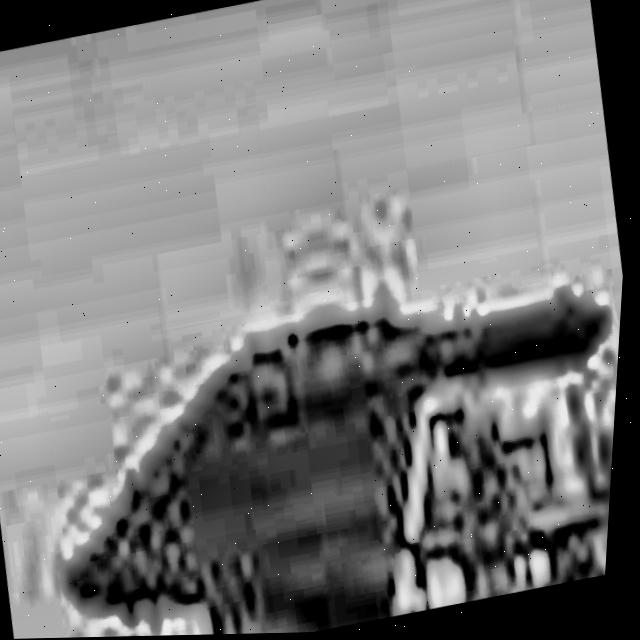dump_truck: (40, 194, 630, 639)
